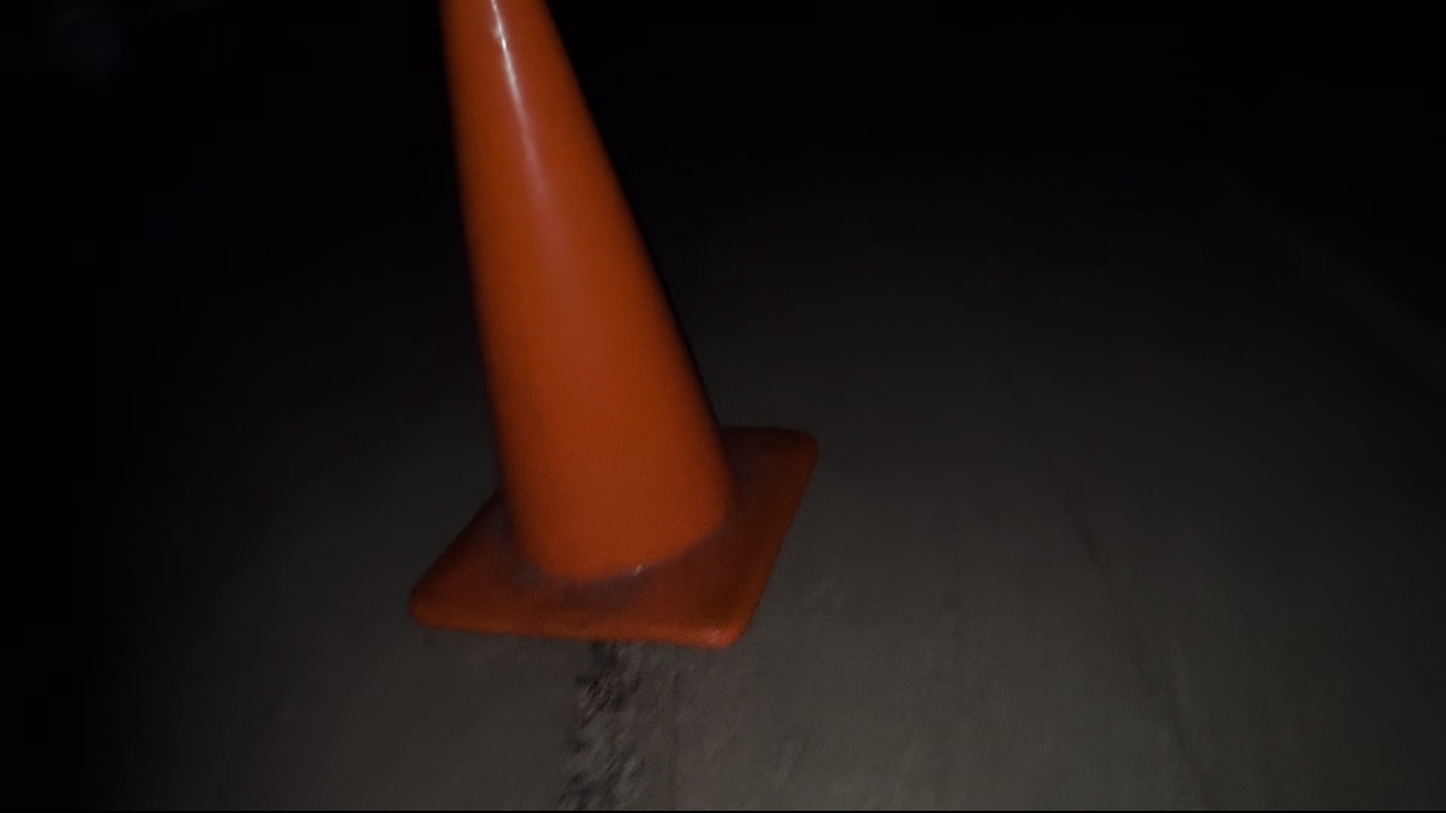traffic_cone: (406, 0, 819, 651)
